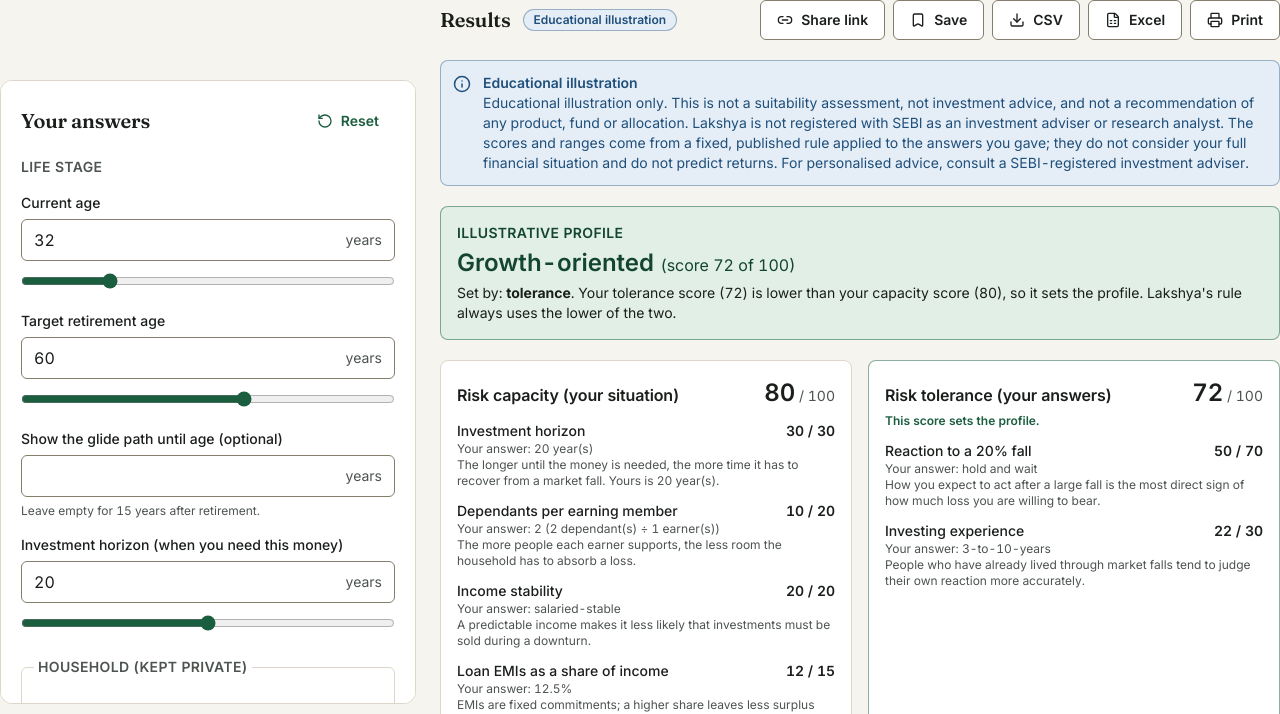
Test: Life-stage & Risk Planner › shows the engine error at the retirement-age field when it is not after the current age
Replace the text in the field labelled "Target retirement age" with "30" at (184, 358), box [22,338,346,378]
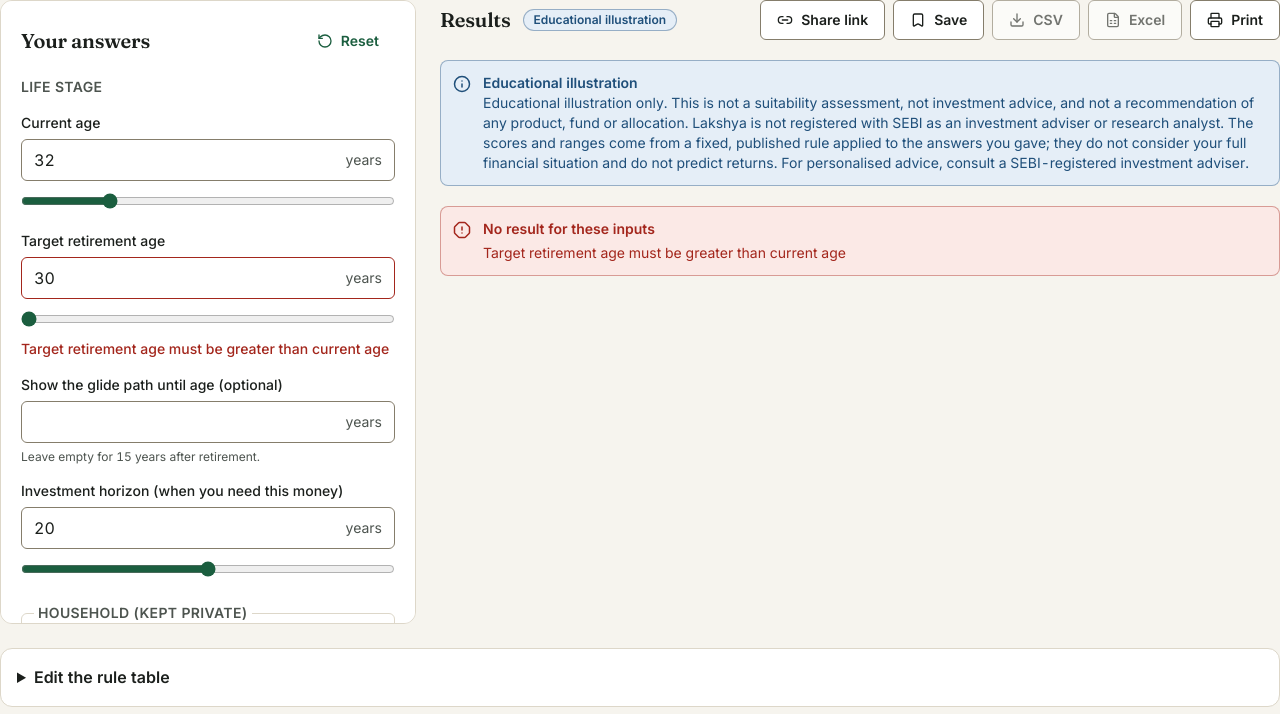
Result: the text "Target retirement age must be greater than current age" below "Life stage" is shown at [21,340,389,357]
